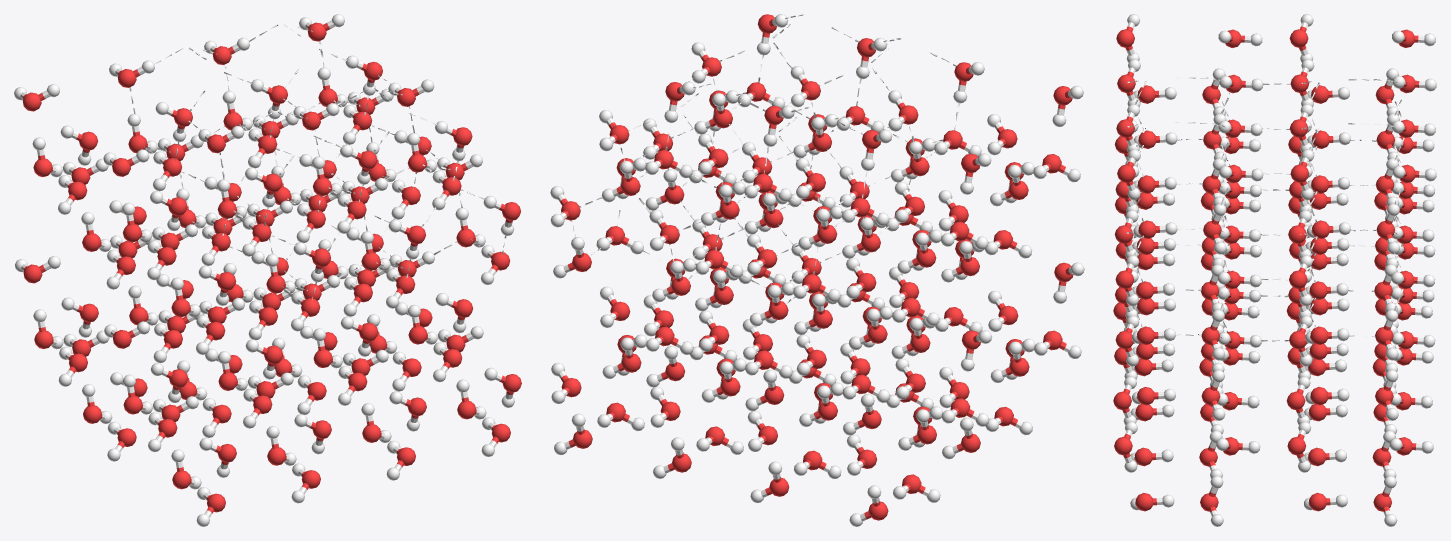
Rendered from ice2.fbx.
3 views of the same model, side by side, from view 1: azimuth 30°, elevation 25°; view 2: azimuth 150°, elevation 25°; view 3: azimuth 270°, elevation 25° (orthographic). The views are drawn at different scales.
Parts seen in each view (by area): view 1: ice2_001, Sphere_85, Sphere_81, Sphere_61, Sphere_97, Sphere_49, Sphere_21, Sphere_5, Sphere_125, Sphere_33, Sphere_113, Sphere_101 (+89 smaller); view 2: ice2_001, Sphere_95, Sphere_63, Sphere_123, Sphere_107, Sphere_79, Sphere_11, Sphere_111, Sphere_71, Sphere_47, Sphere_115, Sphere_99 (+86 smaller); view 3: ice2_001, Sphere_11, Sphere_9, Sphere_67, Sphere_65, Sphere_79, Sphere_75, Sphere_5, Sphere_13, Sphere_73, Sphere_71, Sphere (+89 smaller).
Part boxes in pixels (left/top/right/bottom): ice2_001: left=129, top=24, right=506, bottom=299; Sphere_85: left=340, top=316, right=378, bottom=356; Sphere_81: left=389, top=391, right=426, bottom=431; Sphere_61: left=60, top=125, right=98, bottom=165; Sphere_97: left=294, top=414, right=331, bottom=454; Sphere_49: left=198, top=265, right=236, bottom=305; Sphere_21: left=340, top=144, right=377, bottom=184; Sphere_5: left=435, top=121, right=472, bottom=161; Sphere_125: left=61, top=297, right=98, bottom=337; Sphere_33: left=293, top=242, right=330, bottom=282; Sphere_113: left=199, top=437, right=236, bottom=477; Sphere_101: left=245, top=339, right=282, bottom=379; ice2_001: left=570, top=14, right=959, bottom=303; Sphere_95: left=701, top=361, right=740, bottom=402; Sphere_63: left=897, top=232, right=936, bottom=273; Sphere_123: left=849, top=485, right=888, bottom=526; Sphere_107: left=750, top=461, right=789, bottom=502; Sphere_79: left=602, top=337, right=641, bottom=378; Sphere_11: left=553, top=237, right=591, bottom=278; Sphere_111: left=799, top=385, right=837, bottom=426; Sphere_71: left=695, top=269, right=733, bottom=311; Sphere_47: left=798, top=208, right=837, bottom=250; Sphere_115: left=942, top=417, right=980, bottom=459; Sphere_99: left=843, top=394, right=881, bottom=435; ice2_001: left=1126, top=77, right=1404, bottom=341; Sphere_11: left=1375, top=309, right=1398, bottom=360; Sphere_9: left=1289, top=255, right=1312, bottom=306; Sphere_67: left=1200, top=475, right=1223, bottom=526; Sphere_65: left=1114, top=421, right=1137, bottom=472; Sphere_79: left=1375, top=369, right=1398, bottom=420; Sphere_75: left=1373, top=475, right=1397, bottom=526; Sphere_5: left=1117, top=149, right=1140, bottom=200; Sphere_13: left=1290, top=149, right=1314, bottom=200; Sphere_73: left=1287, top=421, right=1311, bottom=472; Sphere_71: left=1201, top=369, right=1225, bottom=420; Sphere: left=1115, top=255, right=1139, bottom=306.
Size of the model in its own units: 1802 by 1649 by 1376.
